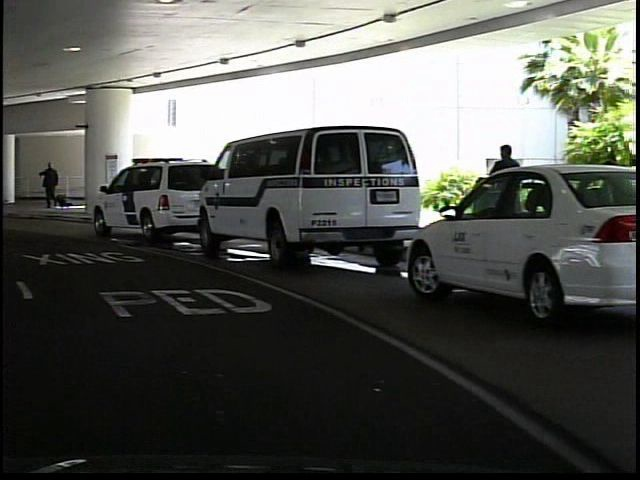person: (481, 139, 522, 258), (35, 156, 62, 216)
